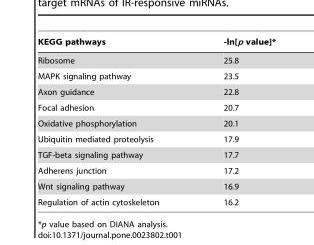table: (37, 37, 275, 206)
table column: (37, 37, 190, 206), (190, 37, 275, 206)
table column header: (37, 37, 275, 50)
table row: (37, 50, 275, 68), (37, 83, 275, 99), (37, 99, 275, 115), (37, 115, 275, 131), (37, 146, 275, 162), (37, 162, 275, 178), (37, 178, 275, 194), (37, 68, 275, 83), (37, 131, 275, 146), (37, 37, 275, 50), (37, 194, 275, 206)
